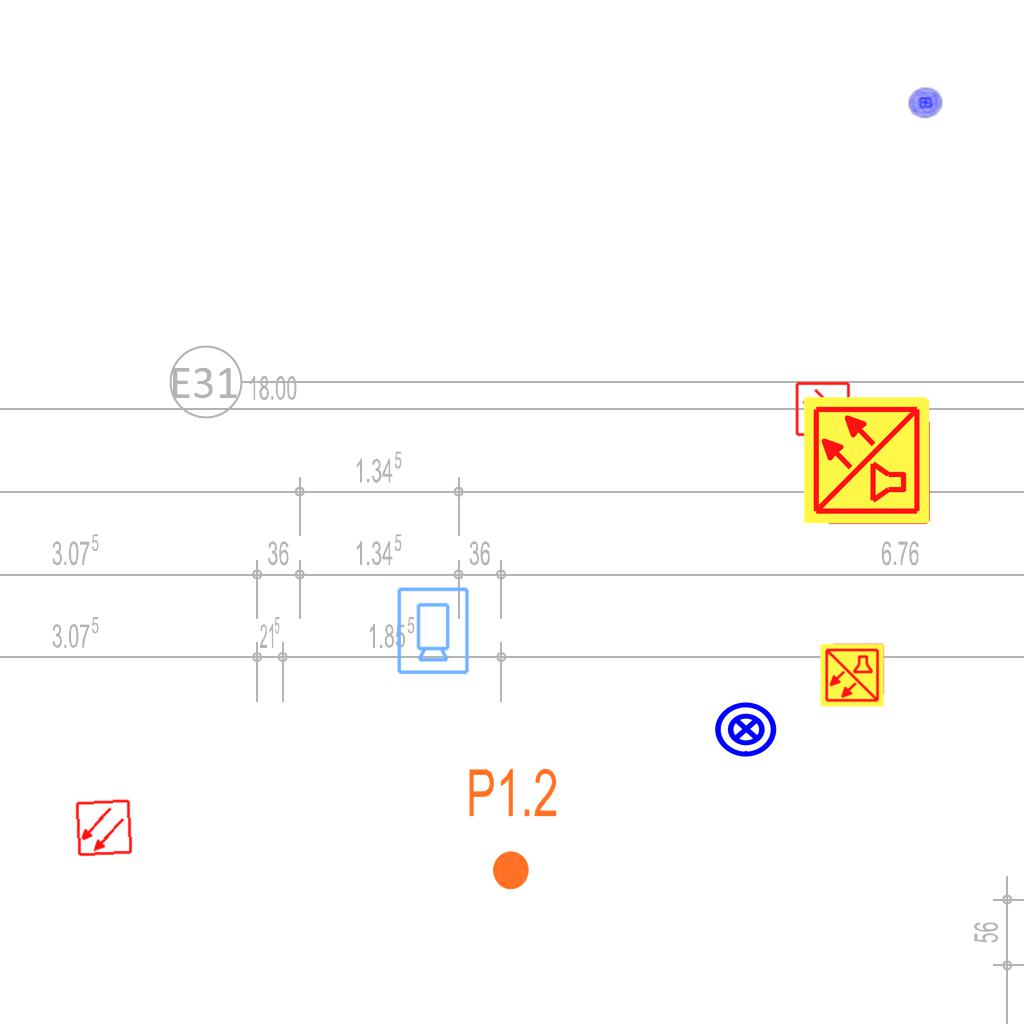Downlight_LED_Einbauleuchten_Flur: (466, 765, 559, 893)
KFO_Kamera_mit_Festobjektiv: (394, 585, 471, 676)
OKW_Multisensormelder_(Kombination_optischer_Rauch-Kahlenmonoxid_Waerme-Melder): (801, 394, 933, 526), (819, 642, 885, 708)
RMO_Rauchmelder_optischer: (74, 798, 134, 858), (795, 381, 851, 437)
Taster_beleuchtet: (713, 696, 779, 762), (906, 83, 945, 122)
